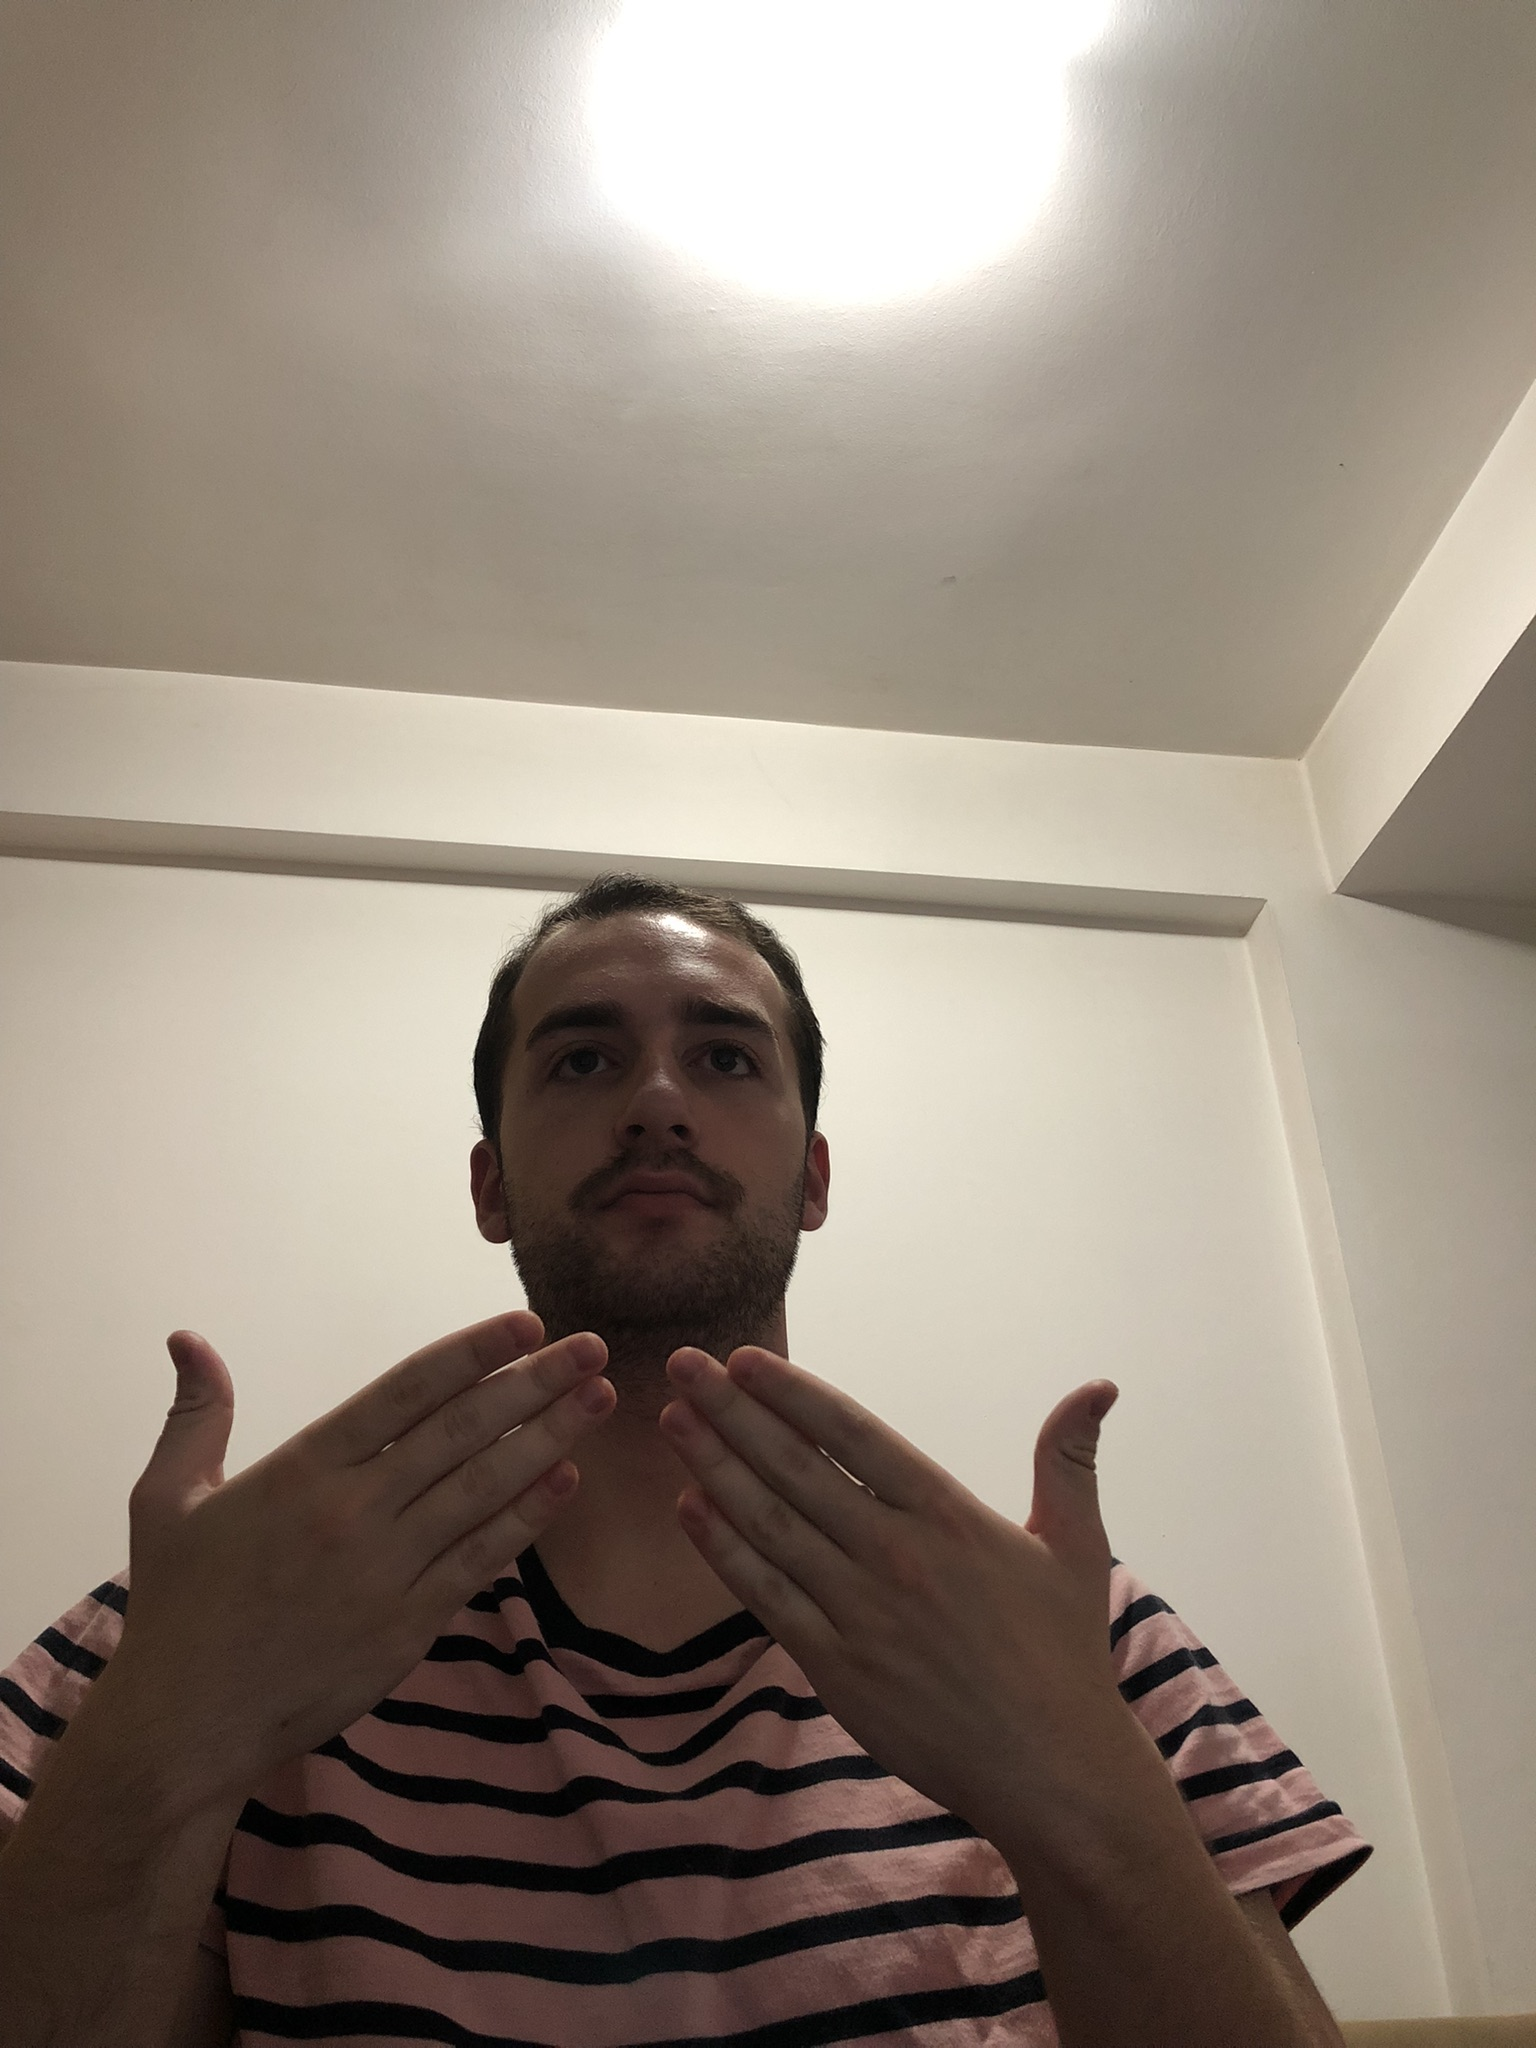Thank You: (113, 1309, 1137, 1874)
